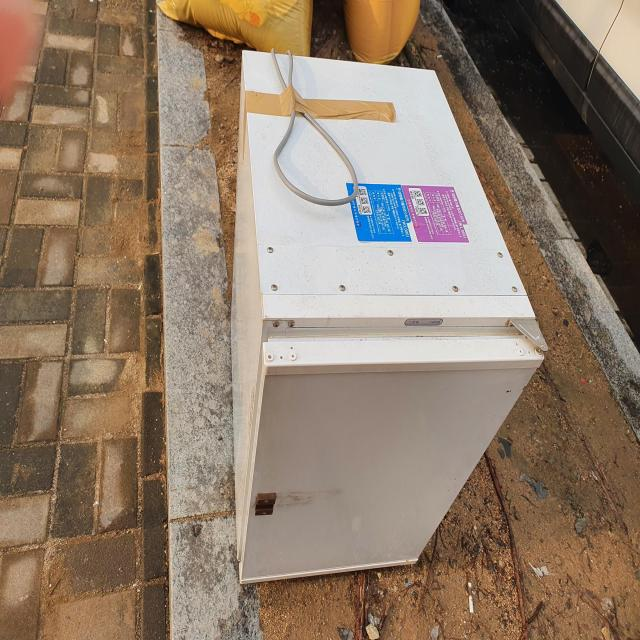refrigerator: (227, 48, 548, 587)
